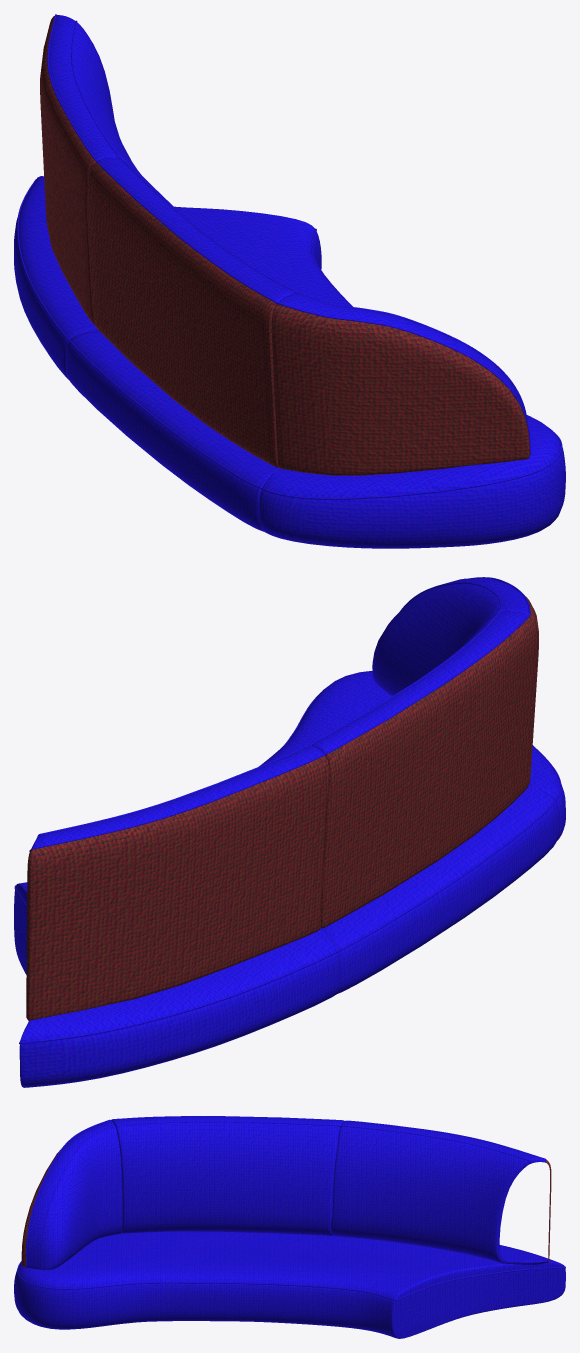
Rendered from levante_l_female_mirror.gltf.
3 renders of one model, top to bottom at view 1: azimuth 30°, elevation 25°; view 2: azimuth 150°, elevation 25°; view 3: azimuth 270°, elevation 25°, orthographic. The views are drawn at different scales.
Parts seen in each view (by area): view 1: levante_l_female001; view 2: levante_l_female001; view 3: levante_l_female001.
Boxes of the visible parts, x1=… form: levante_l_female001: x1=14, y1=14, x2=565, y2=548; levante_l_female001: x1=14, y1=577, x2=565, y2=1087; levante_l_female001: x1=14, y1=1116, x2=565, y2=1338.
Bounding box in the file's own units: 0.9381 × 0.6989 × 2.38.
Materials: 2 (2 with a texture image).
